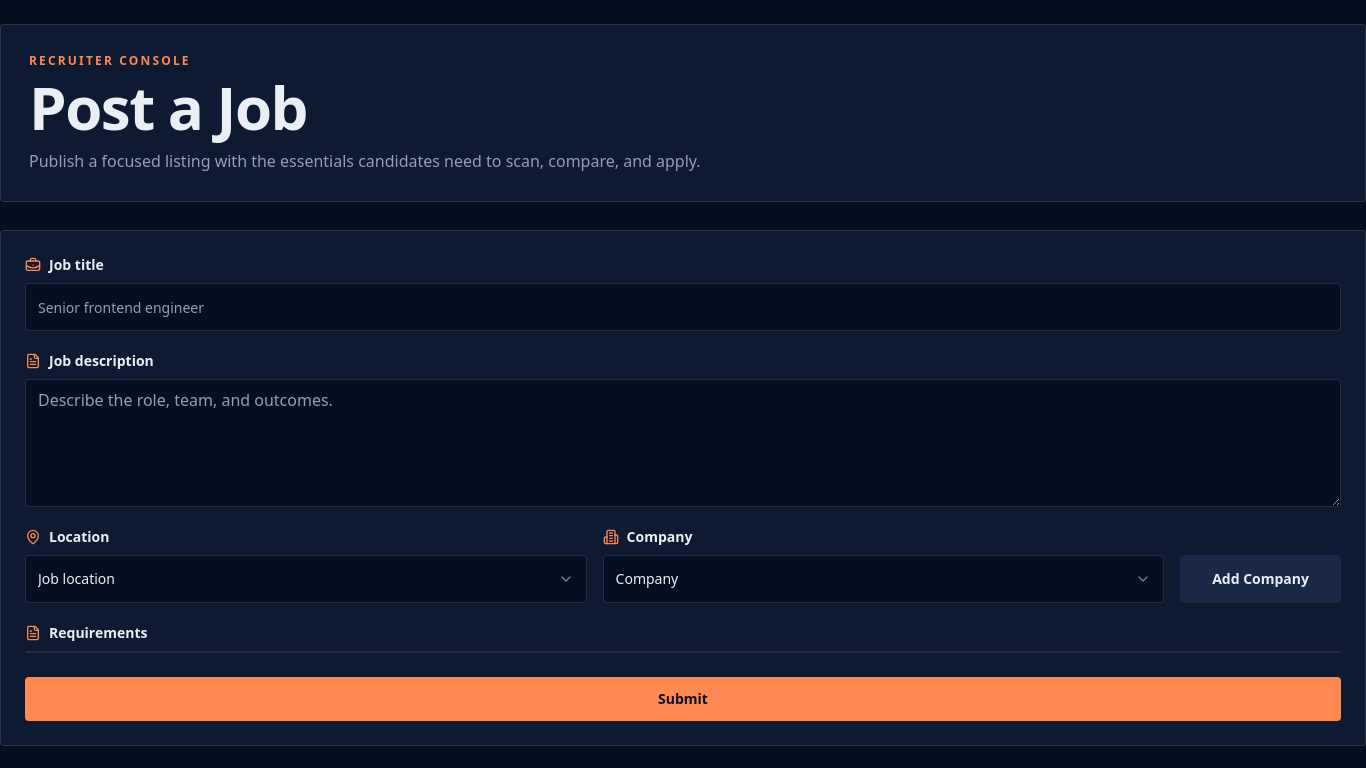
Test: PostJob page workflow › validates all required fields when submitting an empty form
The width and height of the screenshot is (1366, 768).
Expected: the heading "Post a Job" is shown, [29,66,307,148]
Step 1. Click the button "Submit" → (683, 699), box [25,677,1341,721]
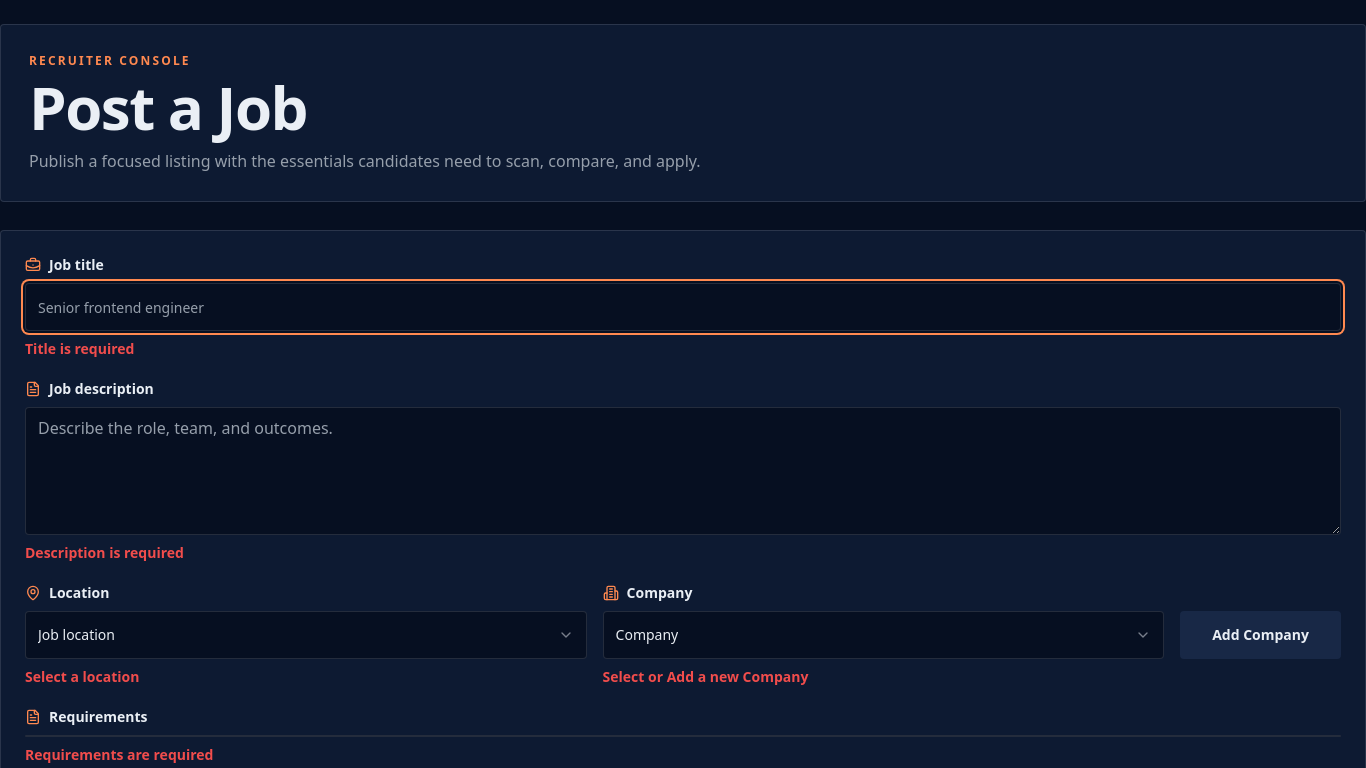
Result: the text "Title is required" is shown at [25,339,134,358]
Result: the text "Description is required" is shown at [25,543,184,562]
Result: the text "Select a location" is shown at [25,667,139,686]
